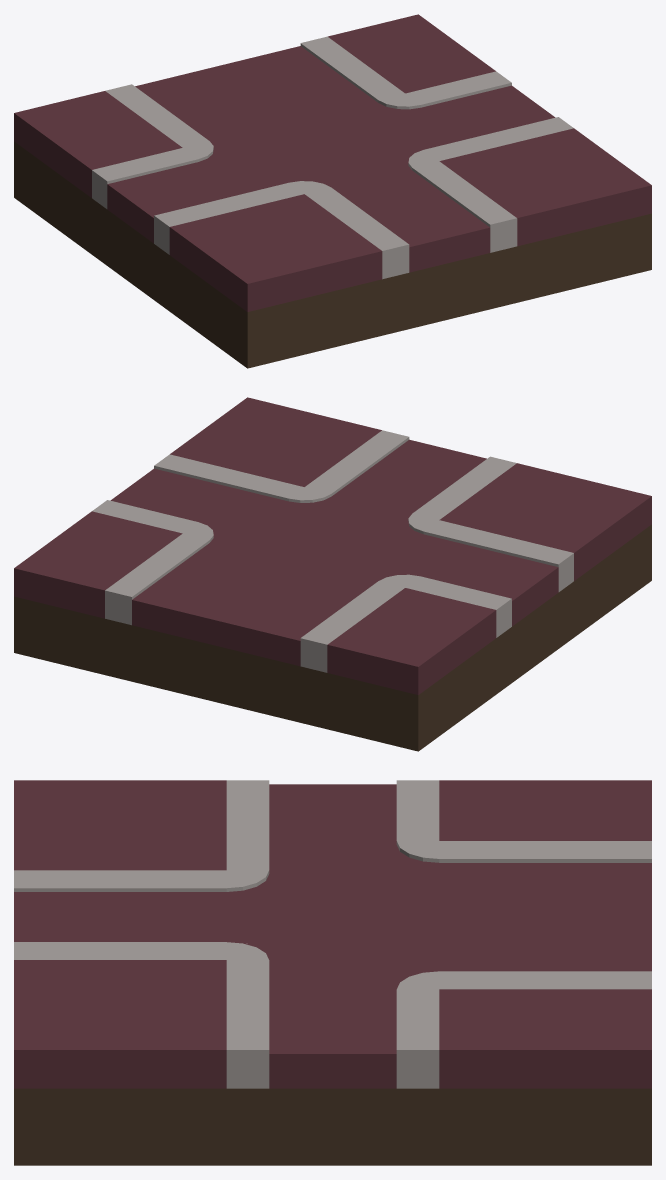
The model's file is tile-roads-mainroad-intersection.fbx.
The picture shows the model from 3 angles, top to bottom: view 1: azimuth 30°, elevation 25°; view 2: azimuth 150°, elevation 25°; view 3: azimuth 270°, elevation 25°; orthographic projection. The views are drawn at different scales.
Visible parts, largest first — view 1: tile-roads-mainroad-intersection; view 2: tile-roads-mainroad-intersection; view 3: tile-roads-mainroad-intersection.
Part boxes in pixels (x1=…): tile-roads-mainroad-intersection: x1=14, y1=14, x2=651, y2=368; tile-roads-mainroad-intersection: x1=14, y1=397, x2=651, y2=751; tile-roads-mainroad-intersection: x1=14, y1=780, x2=651, y2=1165.
Bounding box in the file's own units: 30 × 6 × 30.
